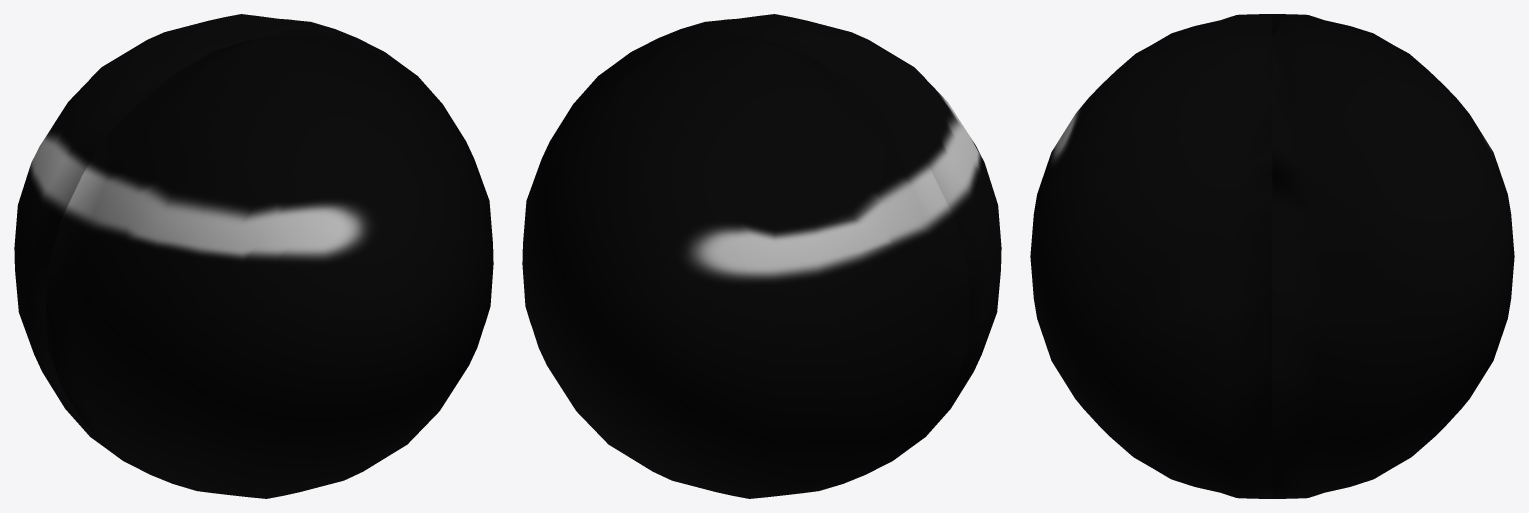
File: model_celldiffusion1.fbx
The picture shows the model from 3 angles, left to right: view 1: azimuth 30°, elevation 25°; view 2: azimuth 150°, elevation 25°; view 3: azimuth 270°, elevation 25°; orthographic projection.
Visible parts, largest first — view 1: Cell_L.000, Cell_L.002; view 2: Cell_L.002, Cell_L.000; view 3: Cell_L.002, Cell_L.000.
Part boxes in pixels (<box>): Cell_L.000: <box>46,32,493,498</box>; Cell_L.002: <box>14,14,401,447</box>; Cell_L.002: <box>522,32,969,498</box>; Cell_L.000: <box>614,14,1001,447</box>; Cell_L.002: <box>1272,14,1514,498</box>; Cell_L.000: <box>1030,14,1272,498</box>.
Bounding box in the file's own units: 268 × 268 × 268.
Materials: 1 (1 with a texture image).
